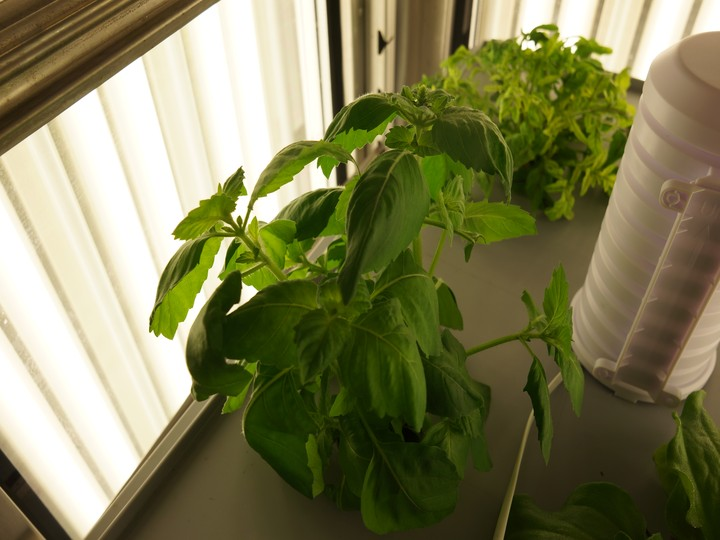basilic_blue_spice: (127, 78, 595, 534)
ficoide_glaciale: (511, 385, 717, 540)
roquette_sauvage_red_veined: (456, 30, 639, 201)
